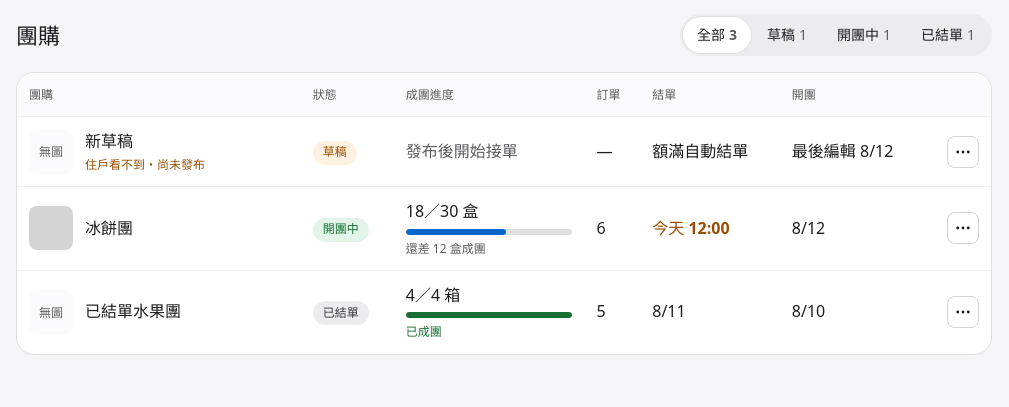
it: OrganizerHome › offers the resident page only for published campaigns and deletion for every campaign
Click the button named "更多操作 冰餅團" at (963, 228), box [947,212,979,244]
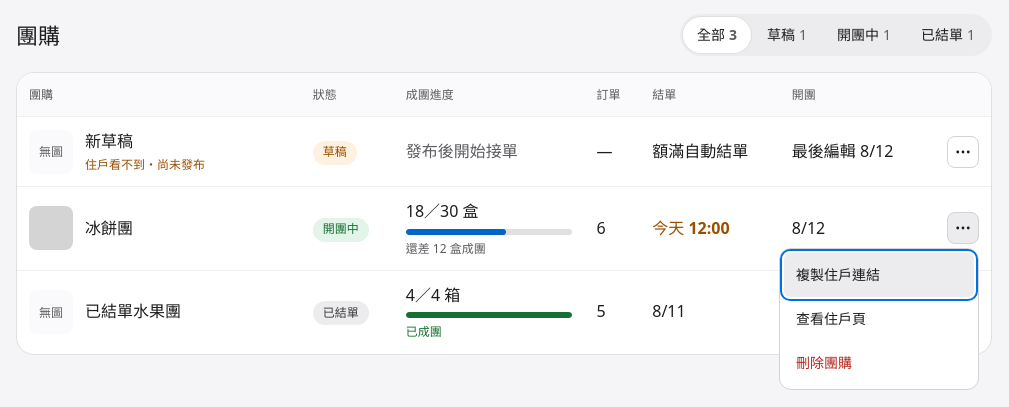
Press Escape
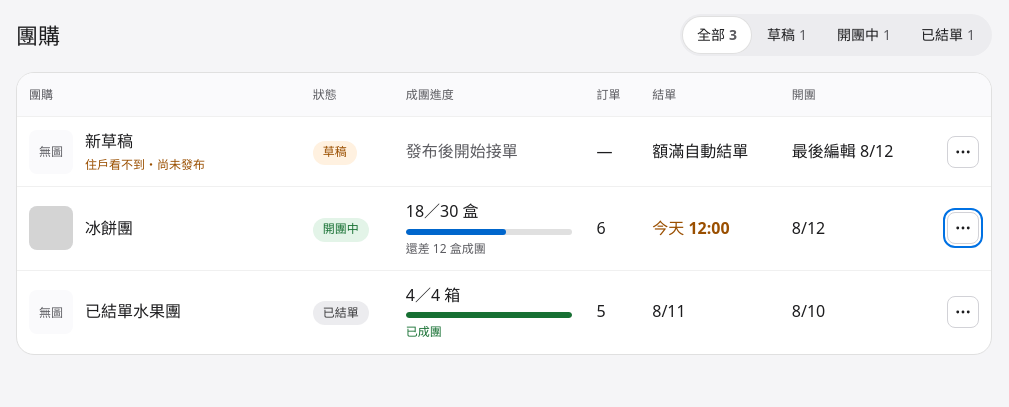
Click the button named "更多操作 新草稿" at (963, 152), box [947,136,979,168]
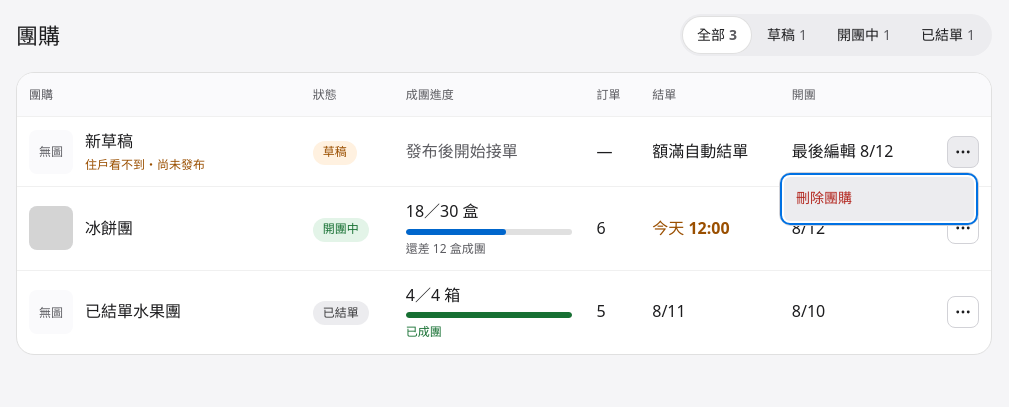
Now the menu item with aria-label "刪除 新草稿" is shown, box [784,177,974,221]
